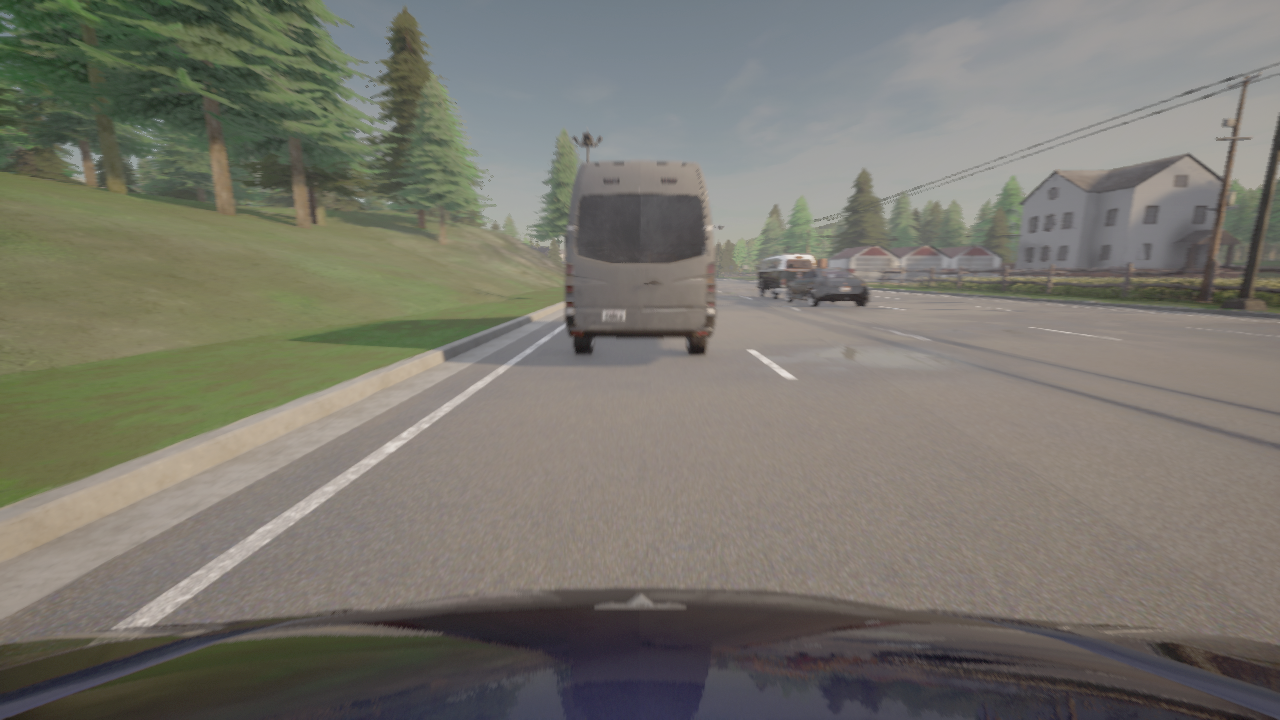cyclist: (0, 588, 1279, 719), (564, 161, 715, 355), (785, 269, 868, 307), (755, 254, 815, 299)
